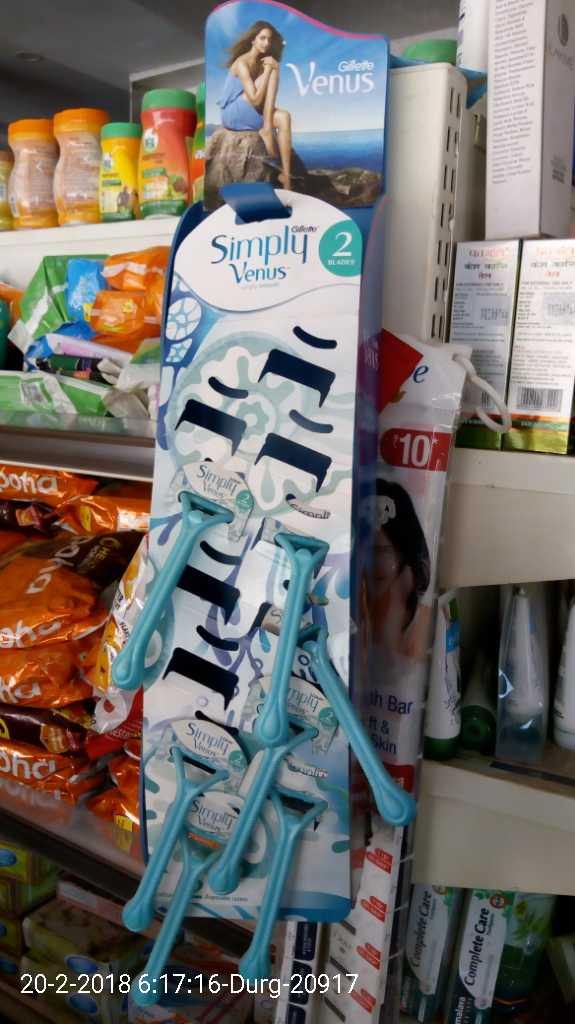reject: (391, 206, 476, 297)
